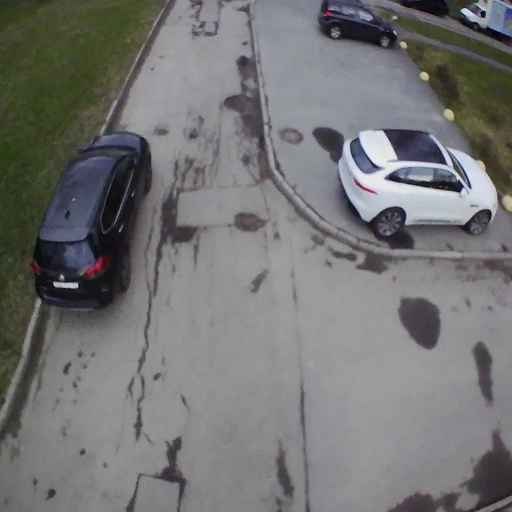Car: (31, 129, 149, 310), (340, 125, 498, 236), (318, 0, 398, 48), (458, 0, 510, 38)
